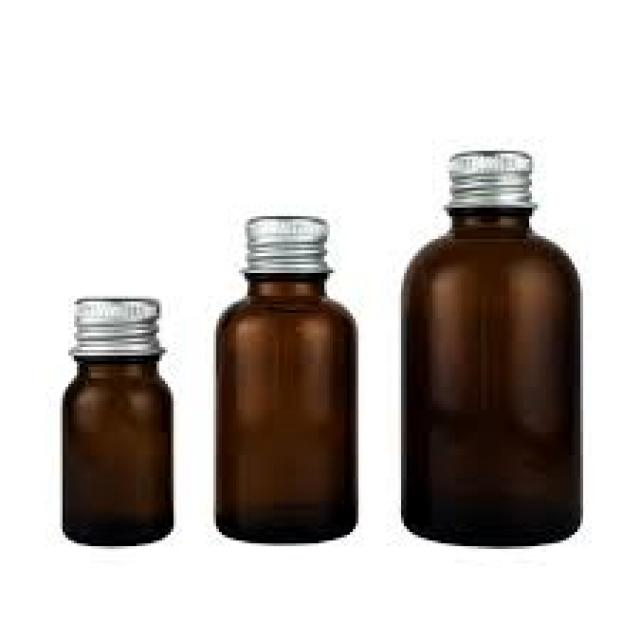Glass: (397, 141, 587, 552), (212, 211, 362, 550), (56, 294, 177, 551)
Metal: (68, 290, 164, 359), (240, 211, 334, 279), (444, 144, 538, 210)
